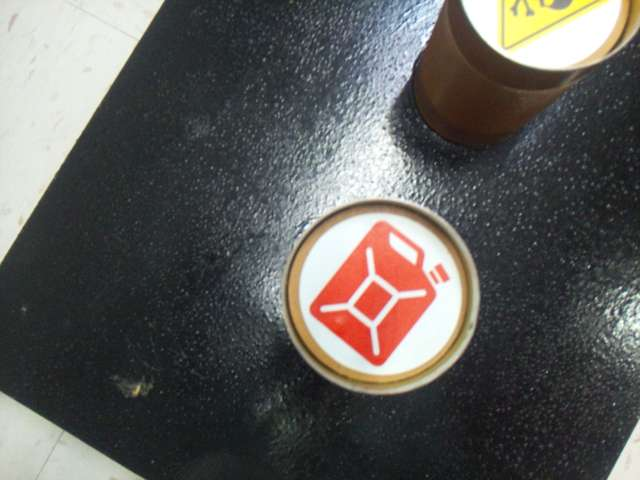gasoline: (300, 212, 463, 376)
toxic_fluid: (464, 1, 621, 68)
